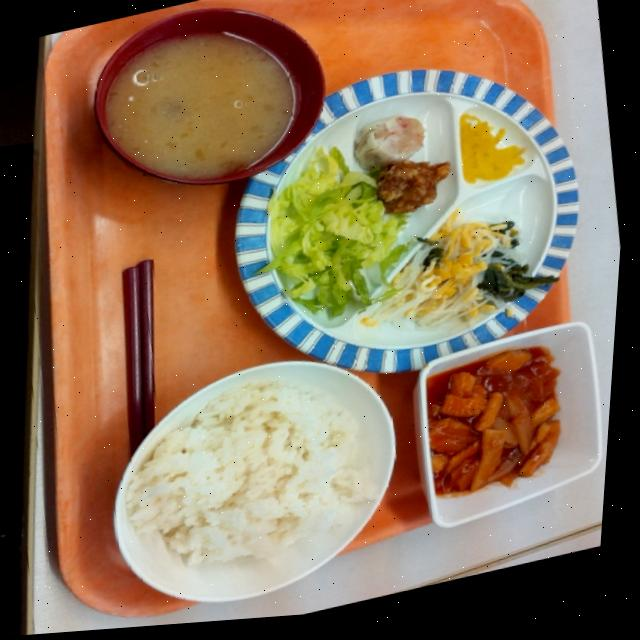米饭主食: (22, 224, 375, 496)
